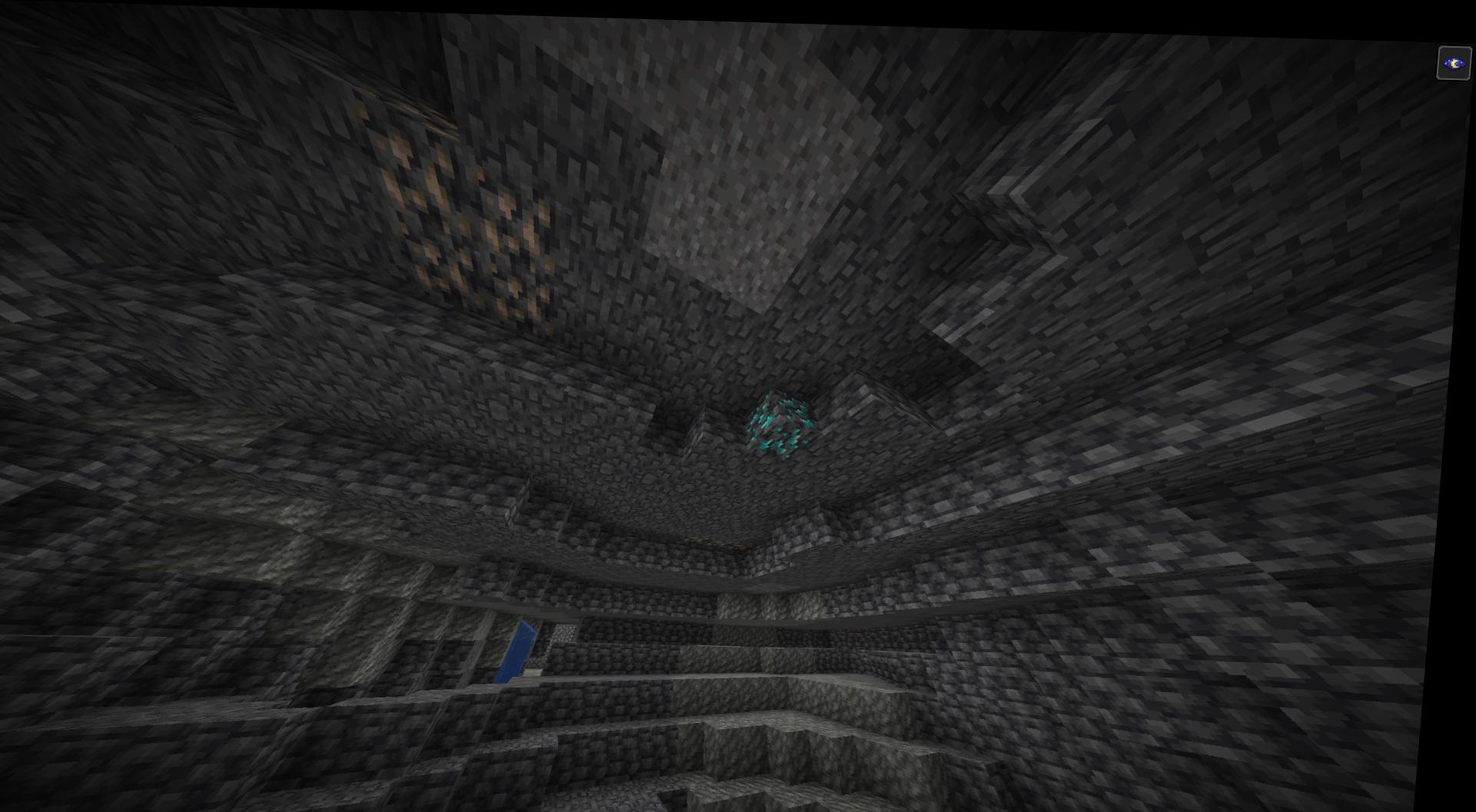diamond ore: (763, 417, 818, 454), (779, 385, 820, 420), (752, 389, 781, 437)
iron ore: (353, 104, 485, 239), (471, 170, 577, 273), (475, 261, 569, 340), (398, 236, 485, 311), (695, 528, 765, 552)
